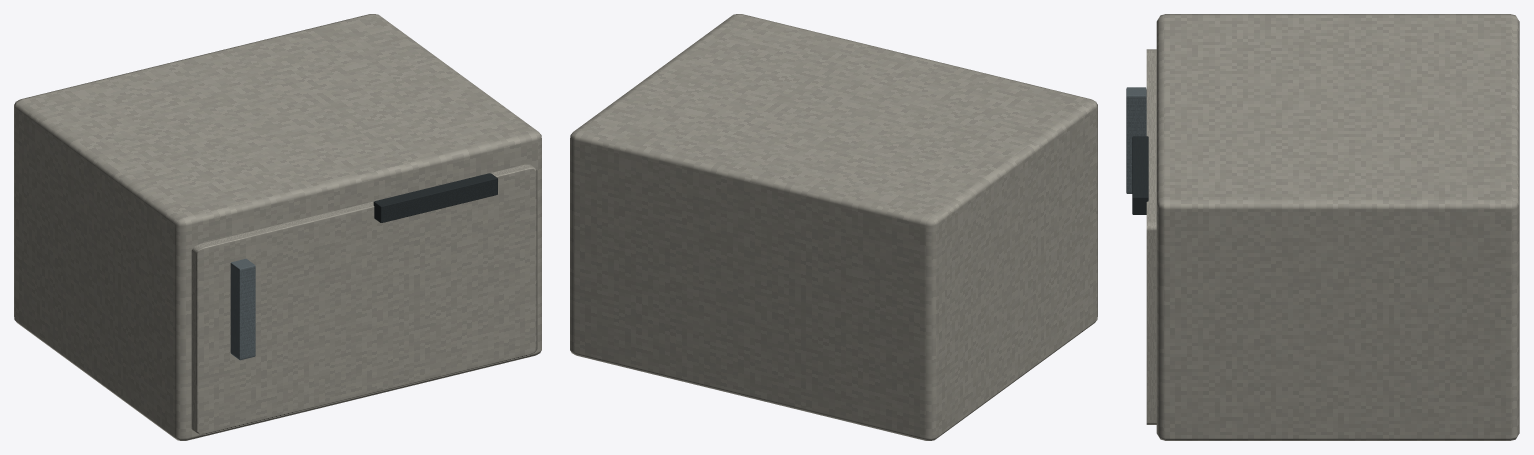
File: printer.glb
3 renders of one model, left to right at view 1: azimuth 30°, elevation 25°; view 2: azimuth 150°, elevation 25°; view 3: azimuth 270°, elevation 25°, orthographic. The views are drawn at different scales.
Parts seen in each view (by area): view 1: case, front, display, pull; view 2: case; view 3: case, front, pull, display.
Part boxes in pixels (x1,y1,x2,y2): case: [14, 14, 541, 440]; front: [191, 164, 537, 434]; display: [373, 173, 497, 222]; pull: [230, 258, 255, 360]; case: [570, 14, 1097, 440]; case: [1156, 14, 1519, 440]; front: [1146, 49, 1156, 424]; pull: [1126, 87, 1146, 193]; display: [1132, 136, 1148, 214].
Size of the model in its own units: 0.43 by 0.25 by 0.3705.
3 materials, 3 textured.
